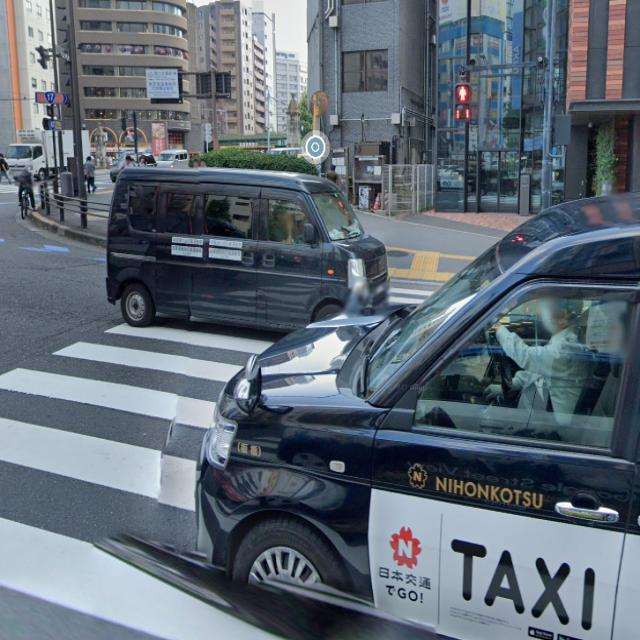traffic-light: (449, 85, 474, 122)
